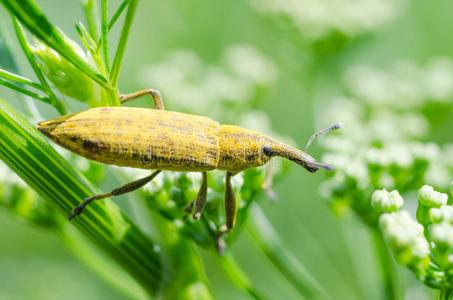Curculionidae: (36, 88, 343, 255)
